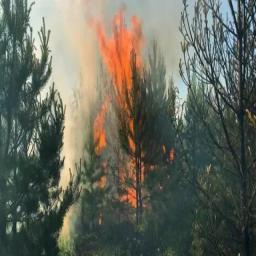Low smoke: (52, 0, 185, 208)
Small fire: (85, 11, 179, 213)
